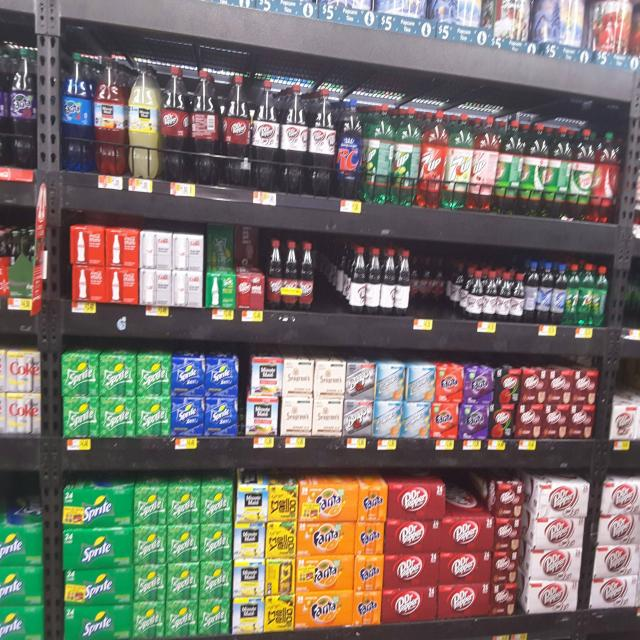empty: (304, 232, 357, 313)
